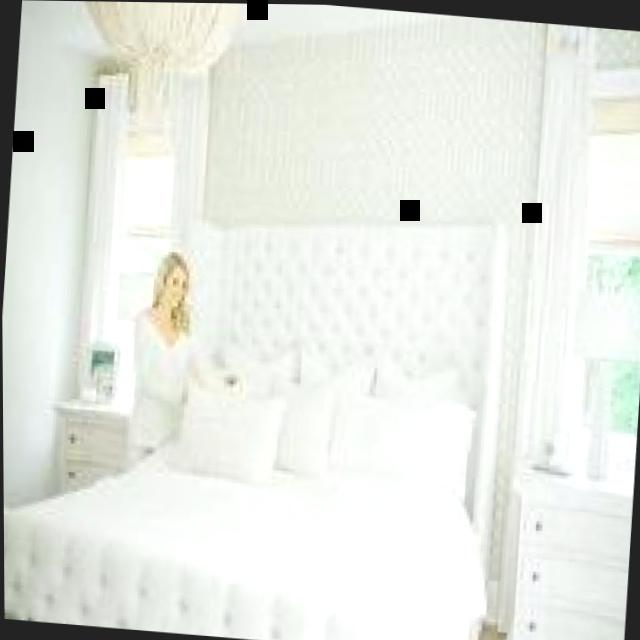NO-Mask: (161, 266, 188, 310)
